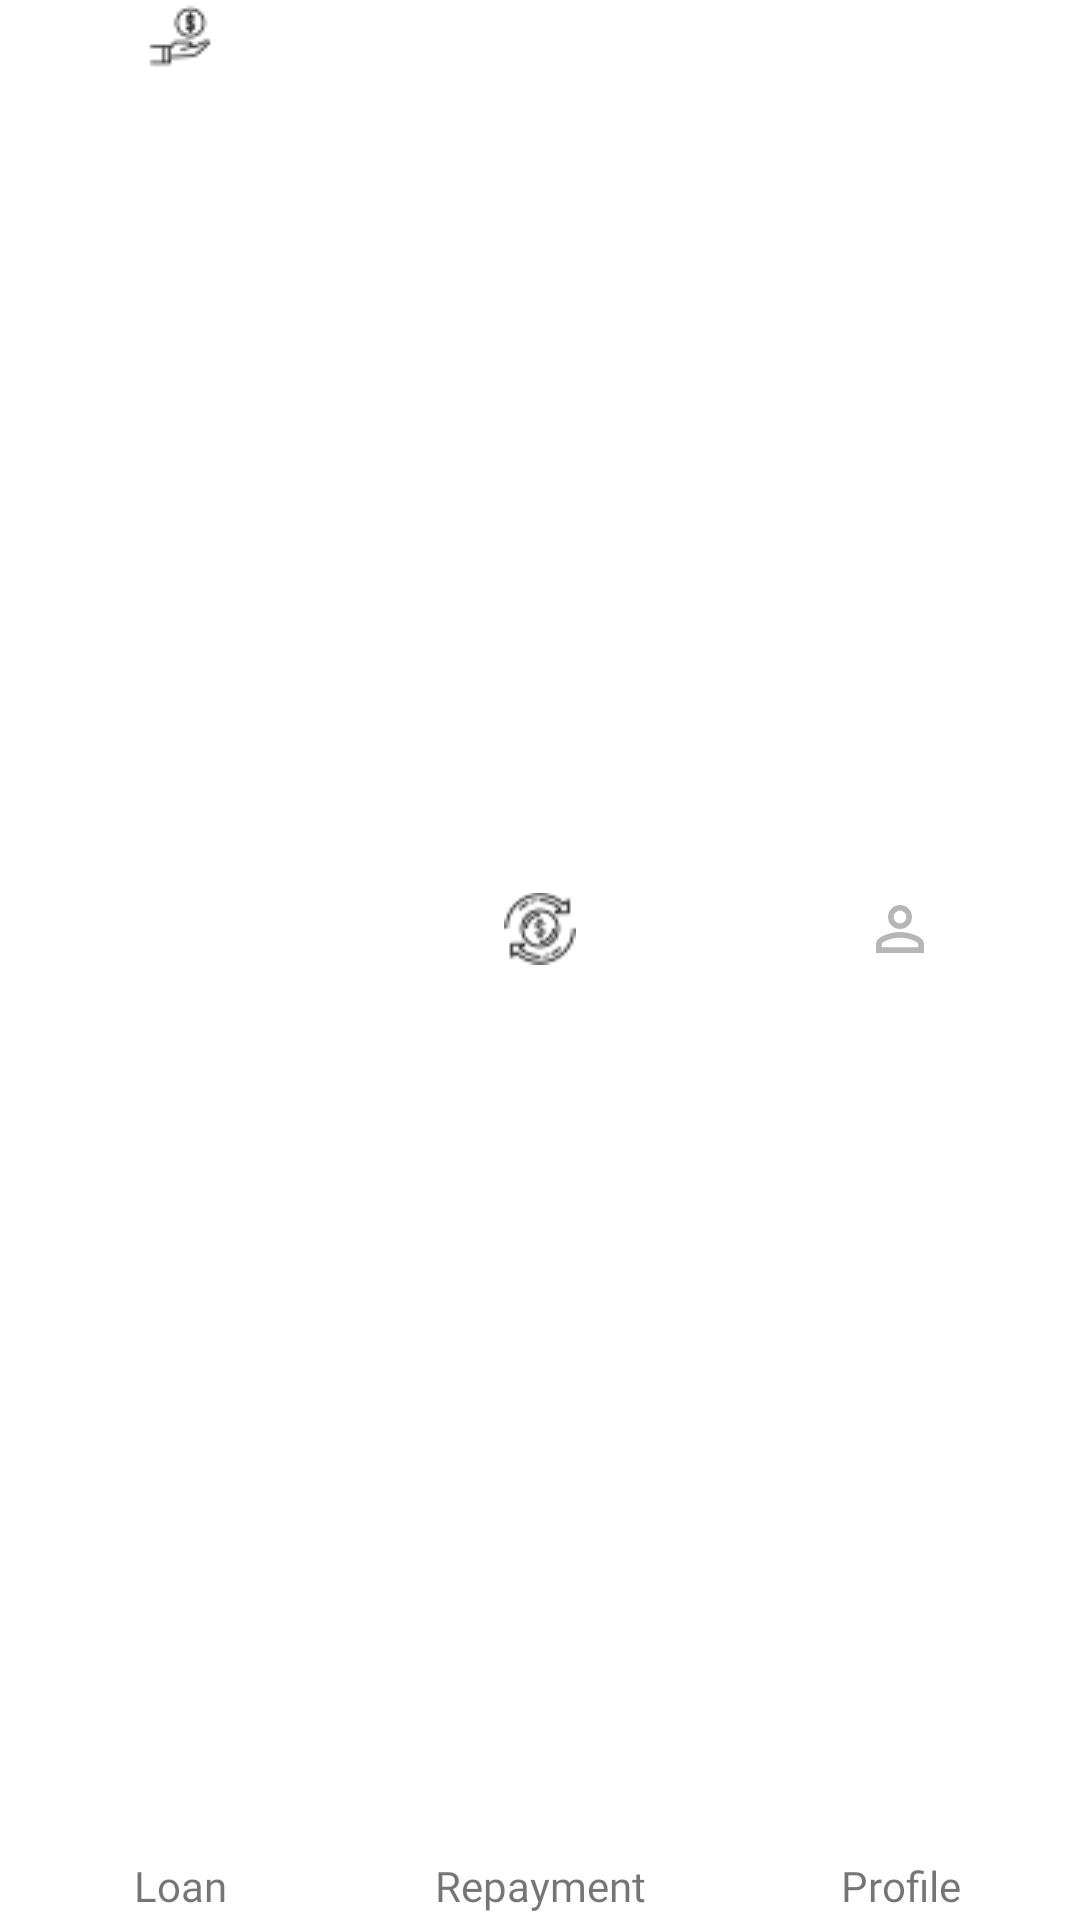

Icons on this 1080x1920 Android screen, each with its box as (x1, y1, x2, y2):
loan: (149, 6, 211, 66)
person: (876, 905, 924, 953)
